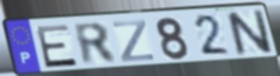2: (194, 12, 232, 59)
8: (155, 16, 191, 61)
E: (34, 23, 80, 70)
N: (223, 8, 275, 58)
R: (70, 21, 120, 67)
Z: (111, 18, 156, 64)
